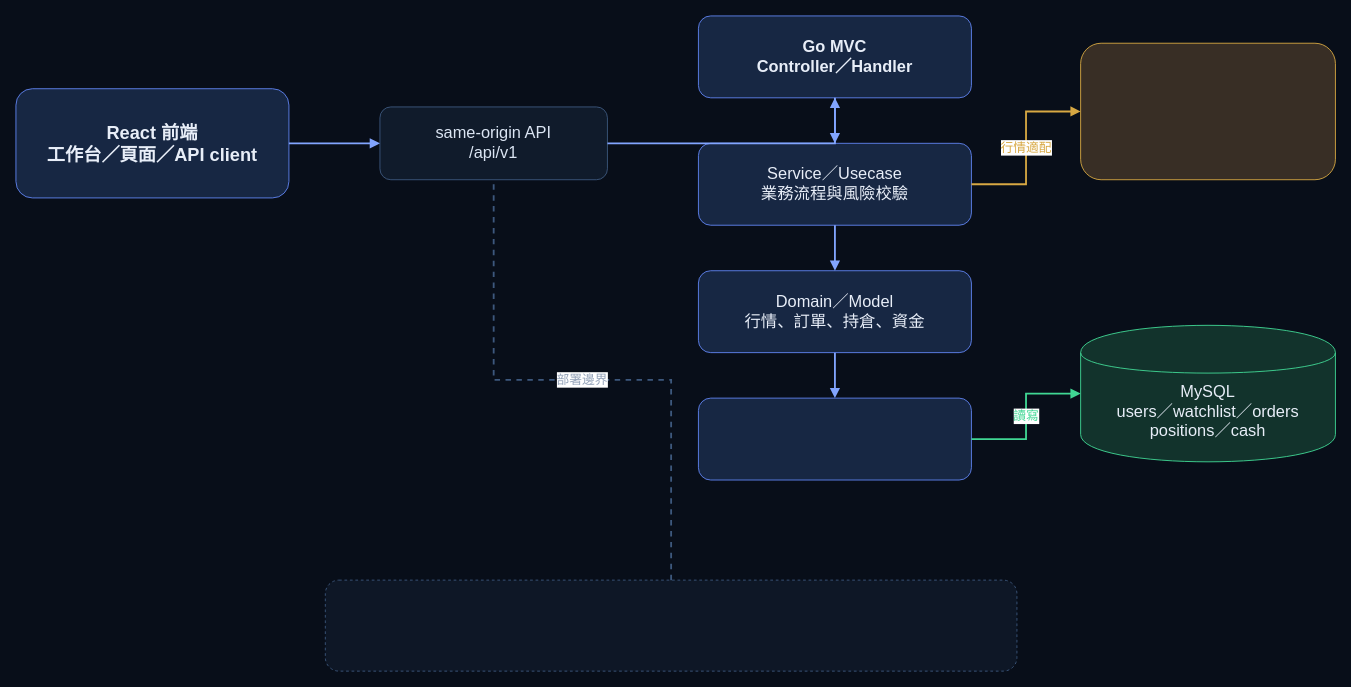
Image size: 1351x687. Some labels were removed from this diagram. Each missing label, with the centre of its shape:
"Docker Compose frontend + backend + mysql phpMyAdmin（可選管理服務）" goes at pixel 670 625.
"Integration adapter AkShare 非官方行情 provider source／data_status／as_of" goes at pixel 1207 111.
"Repository 交易資料持久化邊界" goes at pixel 834 438.
